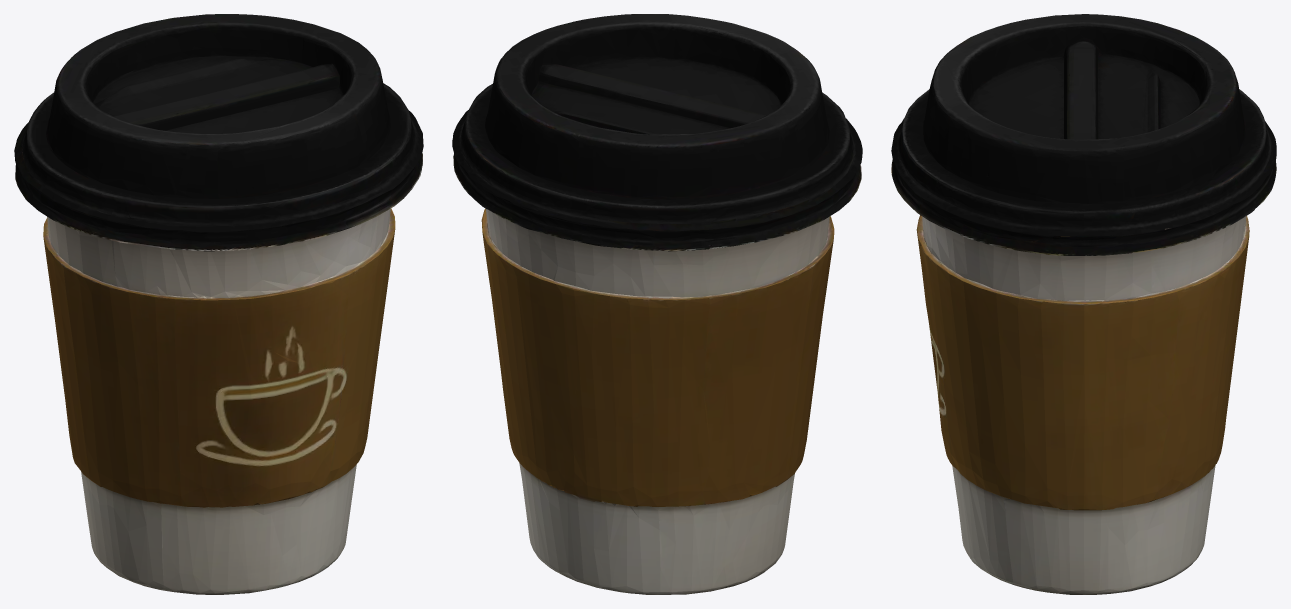
The model's file is drink_coffee_takeout_2.glb.
The picture shows the model from 3 angles, left to right: view 1: azimuth 30°, elevation 25°; view 2: azimuth 150°, elevation 25°; view 3: azimuth 270°, elevation 25°; orthographic projection.
Parts seen in each view (by area): view 1: geometry_0; view 2: geometry_0; view 3: geometry_0.
Part boxes in pixels (x1,y1,x2,y2): geometry_0: (14,14,423,594); geometry_0: (452,14,862,594); geometry_0: (891,14,1276,594).
Bounding box in the file's own units: 0.8138 × 0.9991 × 0.7568.
Materials: 1 (1 with a texture image).
